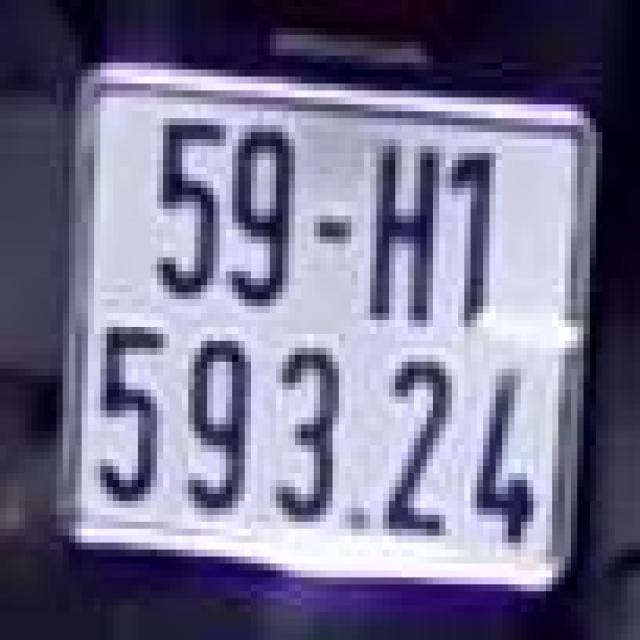1: (448, 142, 498, 330)
2: (373, 354, 455, 542)
3: (270, 338, 345, 526)
4: (467, 365, 543, 553)
5: (91, 320, 173, 508), (150, 111, 226, 306)
9: (179, 338, 254, 518), (226, 122, 295, 310)
H: (361, 125, 442, 327)
